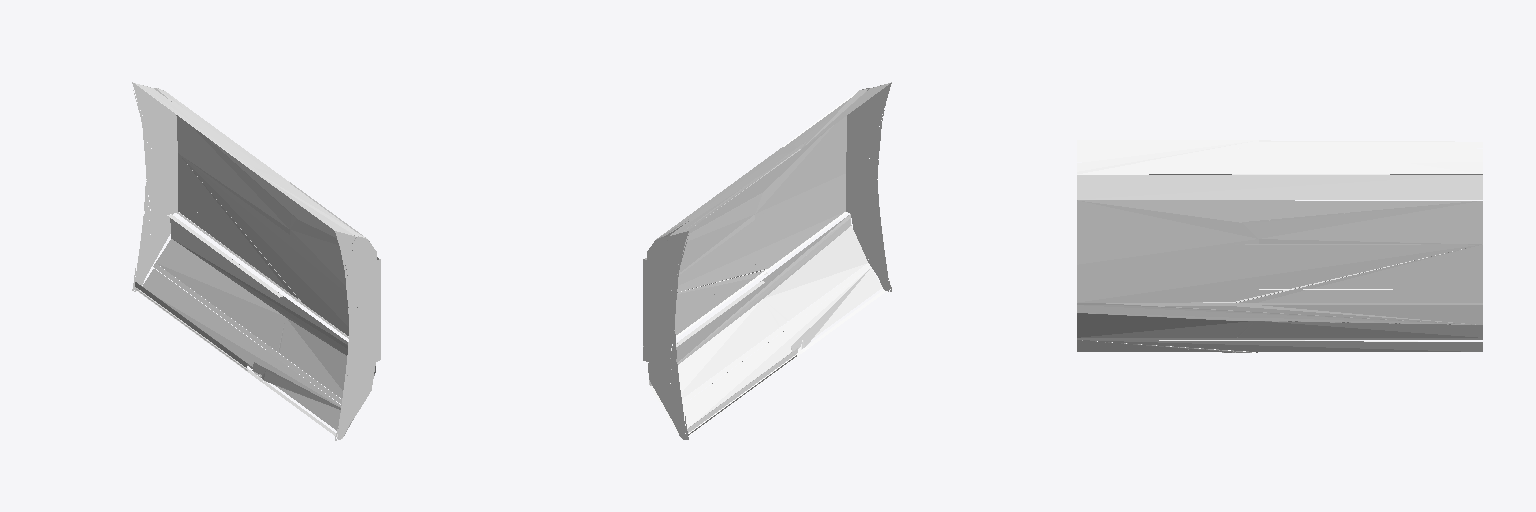
Rendered from LeftWallPreConnector.obj.
The picture shows the model from 3 angles: view 1: azimuth 30°, elevation 25°; view 2: azimuth 150°, elevation 25°; view 3: azimuth 270°, elevation 25°; orthographic projection.
Parts seen in each view (by area): view 1: CapsuleLeftWallPreCOnnector_1; view 2: CapsuleLeftWallPreCOnnector_1; view 3: CapsuleLeftWallPreCOnnector_1.
Part boxes in pixels (bbox=[...]): CapsuleLeftWallPreCOnnector_1: bbox=[132, 82, 380, 440]; CapsuleLeftWallPreCOnnector_1: bbox=[643, 82, 891, 439]; CapsuleLeftWallPreCOnnector_1: bbox=[1077, 140, 1482, 352].
Size of the model in its own units: 1.26 by 5.41 by 9.43.